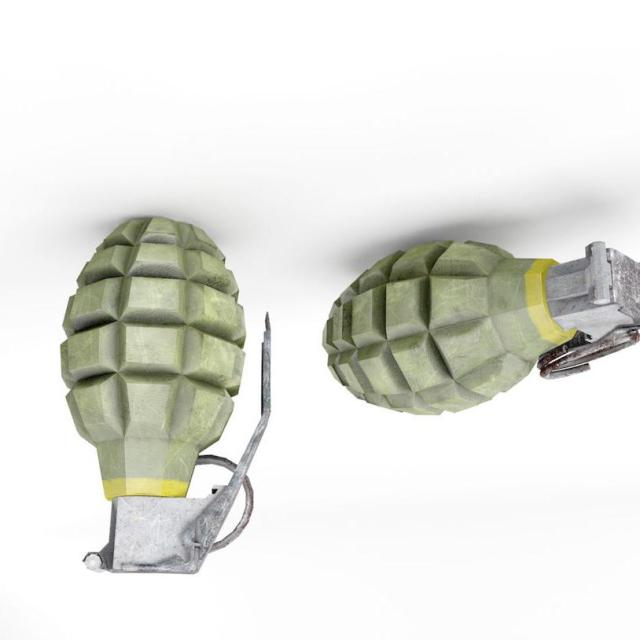grenade: (60, 217, 272, 576), (322, 216, 640, 418)
